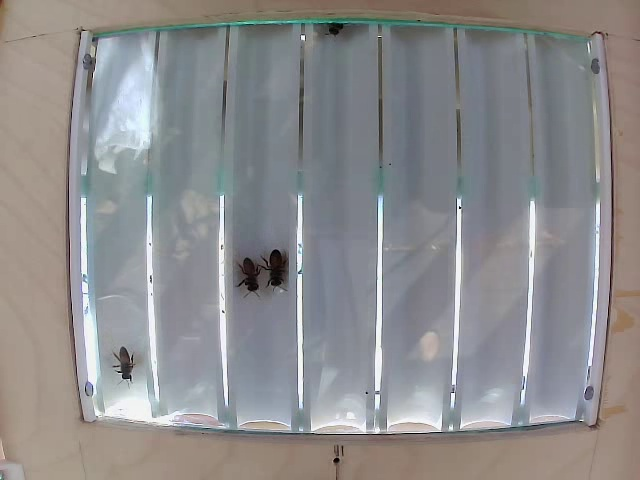bee: (232, 255, 270, 308), (264, 245, 305, 292), (96, 352, 140, 388)
